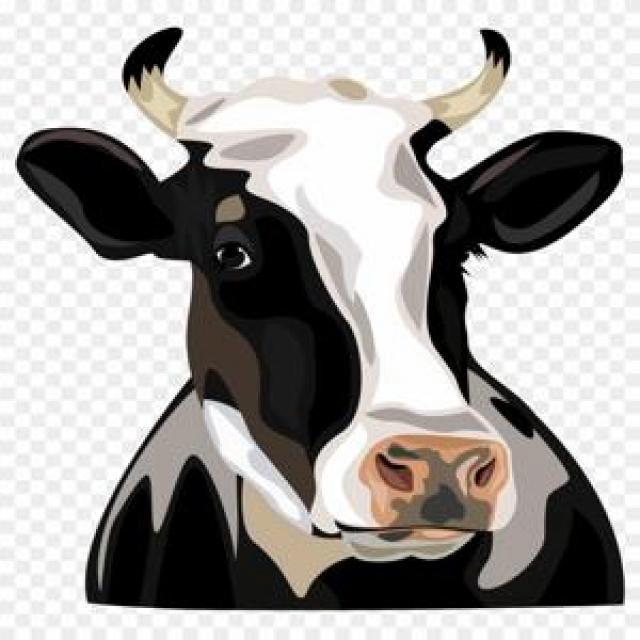cow: (16, 28, 622, 608)
